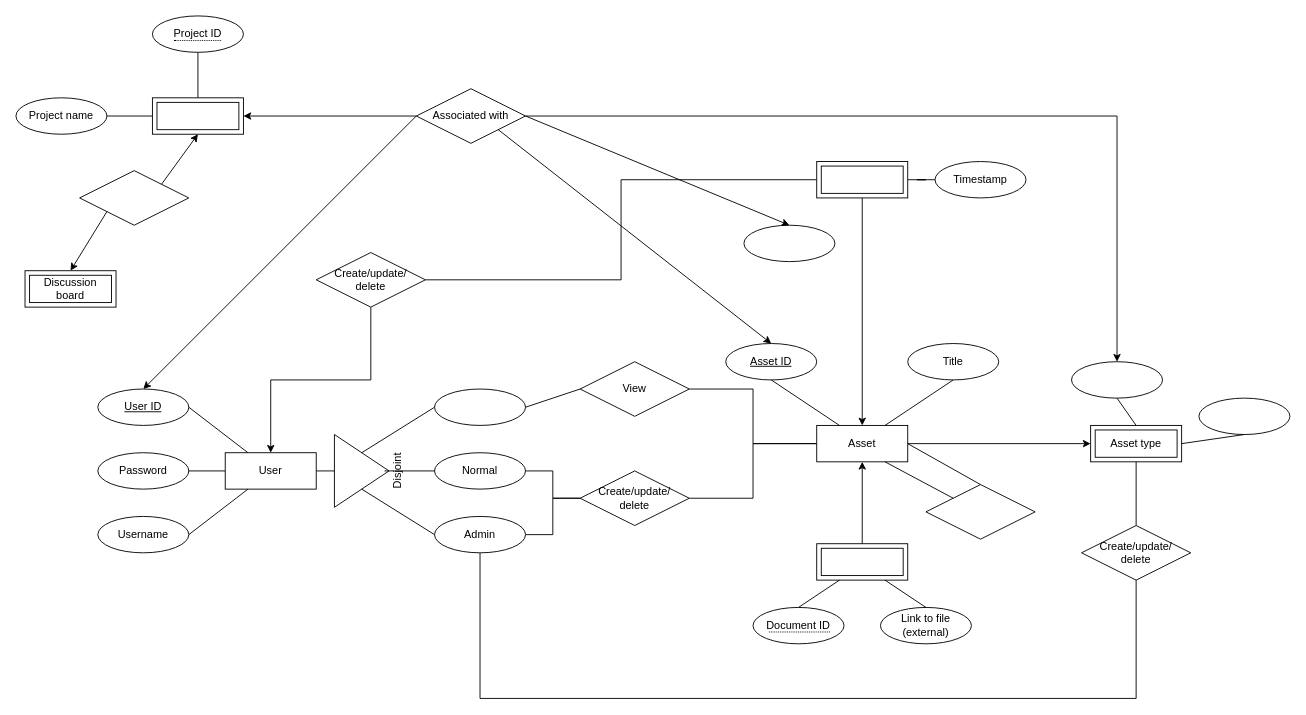
Some shapes in this 1306 by 715 pixel diagram are drawn without their labels. The centre of each missing label's shape, as x and y in pixels:
"Designated board" belongs at (134,197).
"Document" belongs at (862,561).
"Indicate link to another asset" belongs at (980,511).
"ISA" belongs at (361,470).
"Log" belongs at (862,179).
"Log ID" belongs at (789,243).
"Project" belongs at (197,115).
"Type ID" belongs at (1117,379).
"Type name/identifier" belongs at (1244,416).
"Viewer" belongs at (480,406).
